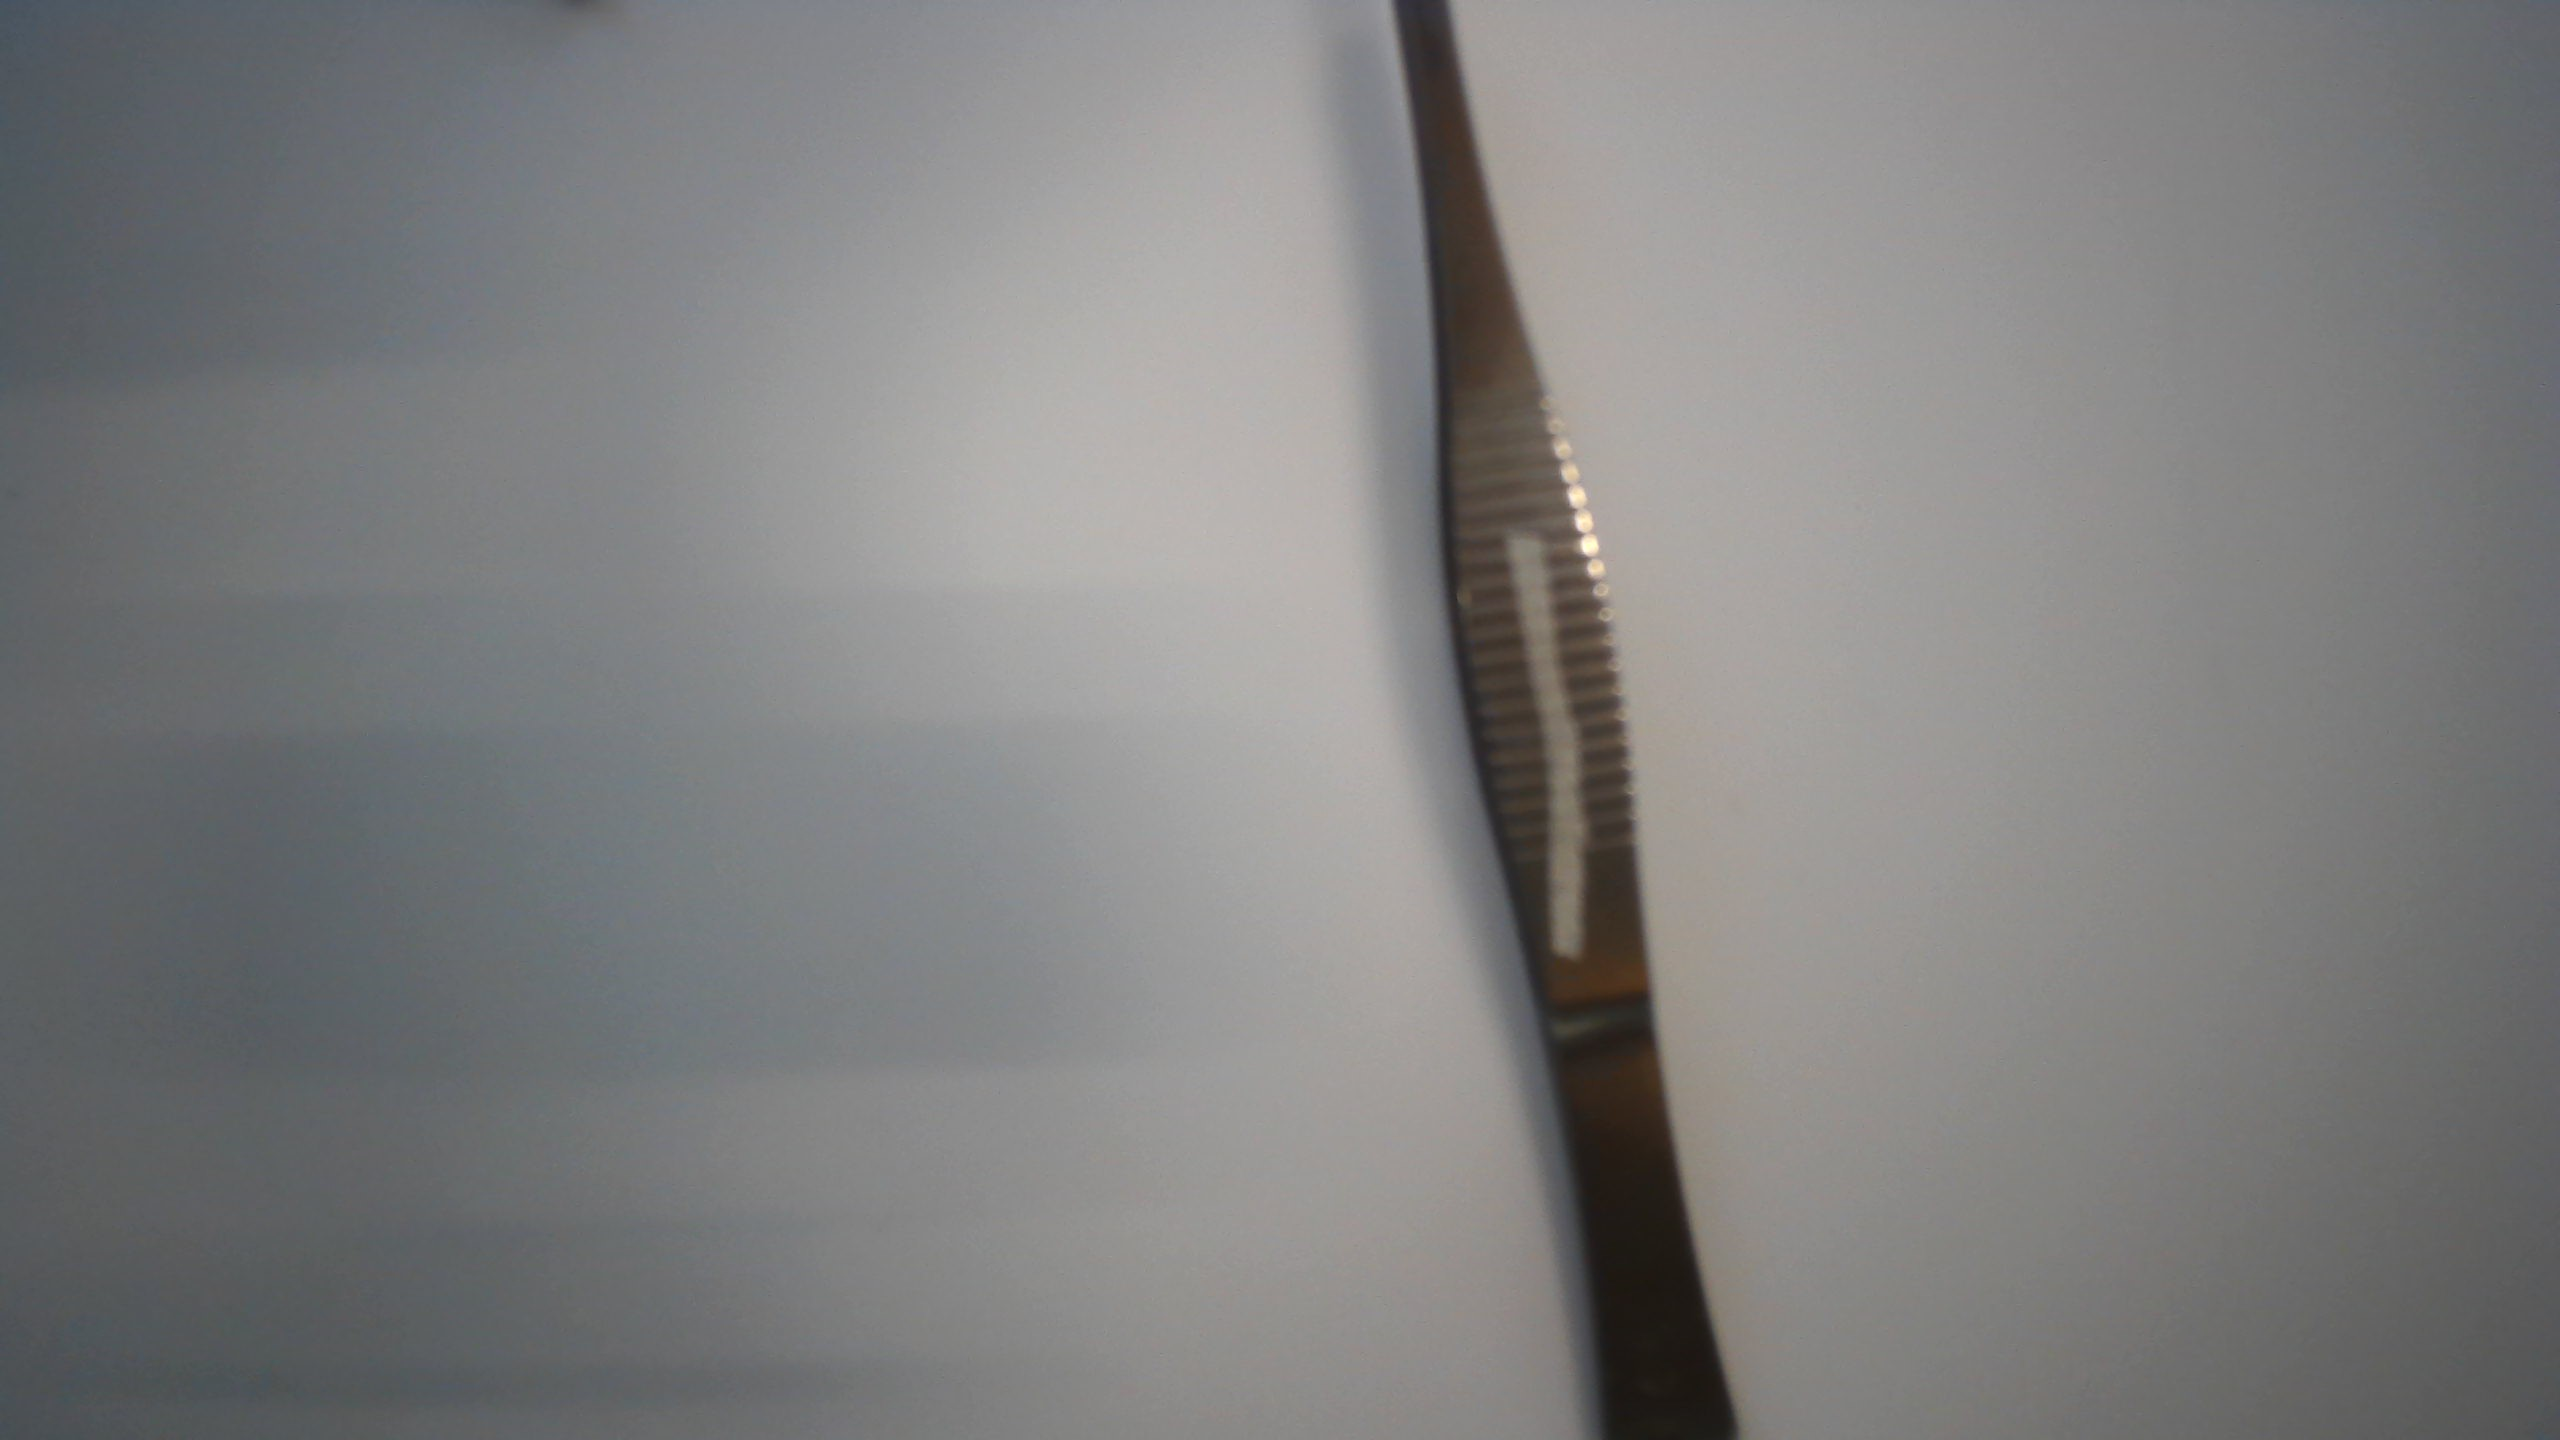Scratches: (1487, 513, 1589, 969)
